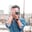face: (10, 5, 20, 19)
